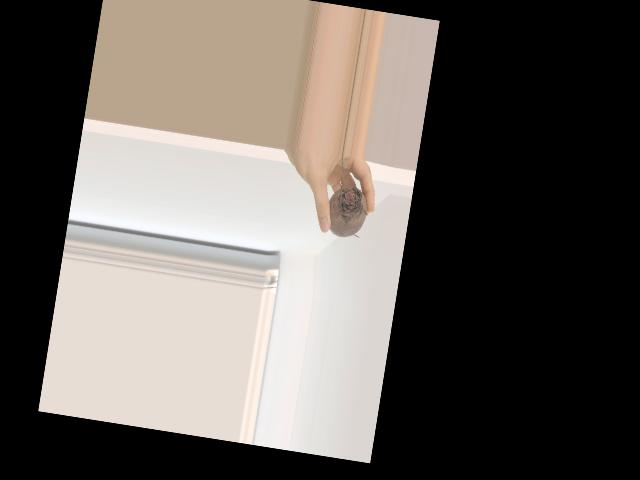beet: (323, 154, 376, 241)
